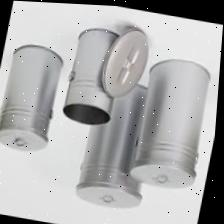metal: (124, 49, 221, 200), (69, 77, 167, 216), (0, 29, 73, 160), (59, 13, 122, 134), (99, 16, 155, 98)
